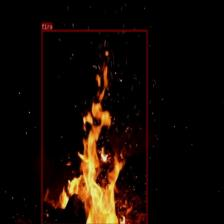fire: (41, 28, 147, 224)
